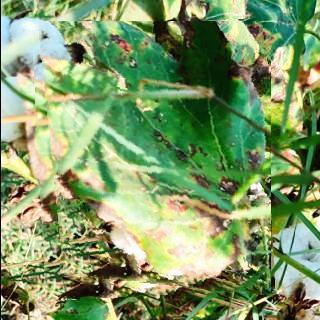blight: (34, 21, 270, 299)
